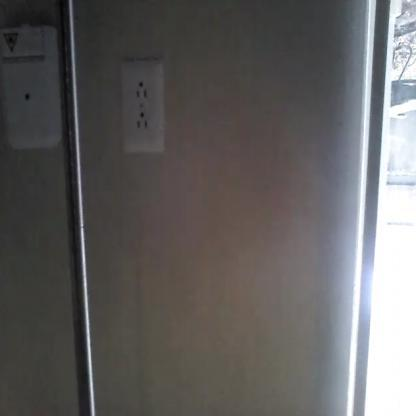OUTLET: (122, 61, 162, 153)
